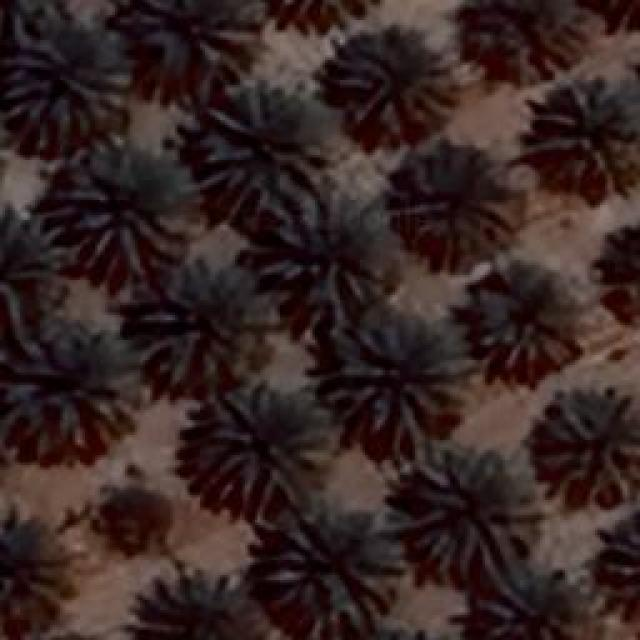PalmTree: (42, 142, 196, 280), (385, 442, 540, 578), (182, 384, 336, 518), (320, 315, 470, 450), (130, 255, 278, 390), (2, 322, 148, 450), (390, 132, 528, 266), (195, 80, 330, 212), (268, 502, 402, 630), (258, 190, 380, 328), (0, 12, 132, 137), (322, 28, 460, 130), (460, 260, 578, 378), (528, 390, 638, 505), (520, 77, 638, 175), (458, 0, 592, 80), (138, 562, 272, 640), (458, 575, 598, 640), (137, 0, 260, 72), (0, 501, 62, 636), (0, 212, 65, 326), (590, 216, 640, 342), (101, 474, 177, 555), (595, 515, 635, 620), (101, 18, 327, 36), (331, 623, 472, 640), (577, 0, 640, 32), (34, 17, 101, 33)
